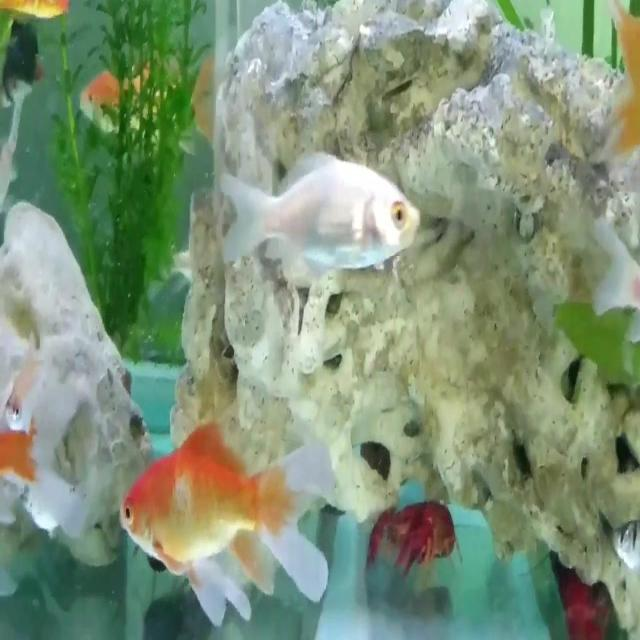GoldFish: (113, 413, 345, 628)
